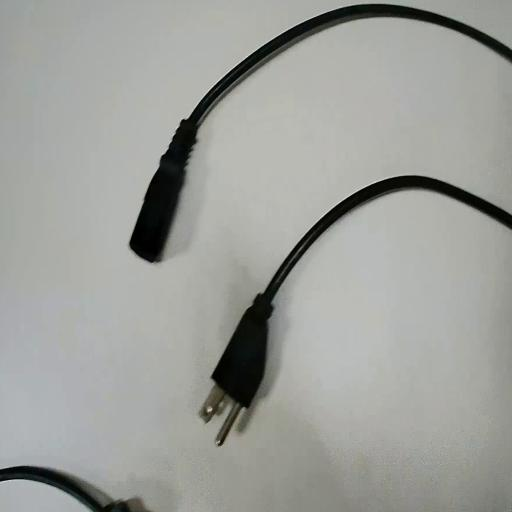wire: (130, 5, 511, 261), (212, 176, 511, 443)
